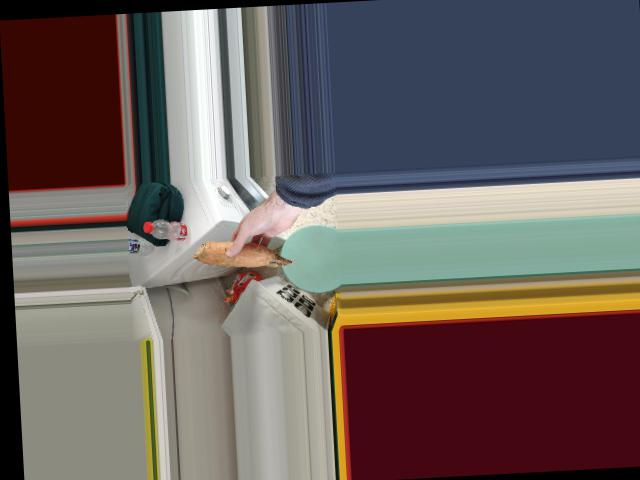sweet_potato: (199, 238, 295, 270)
